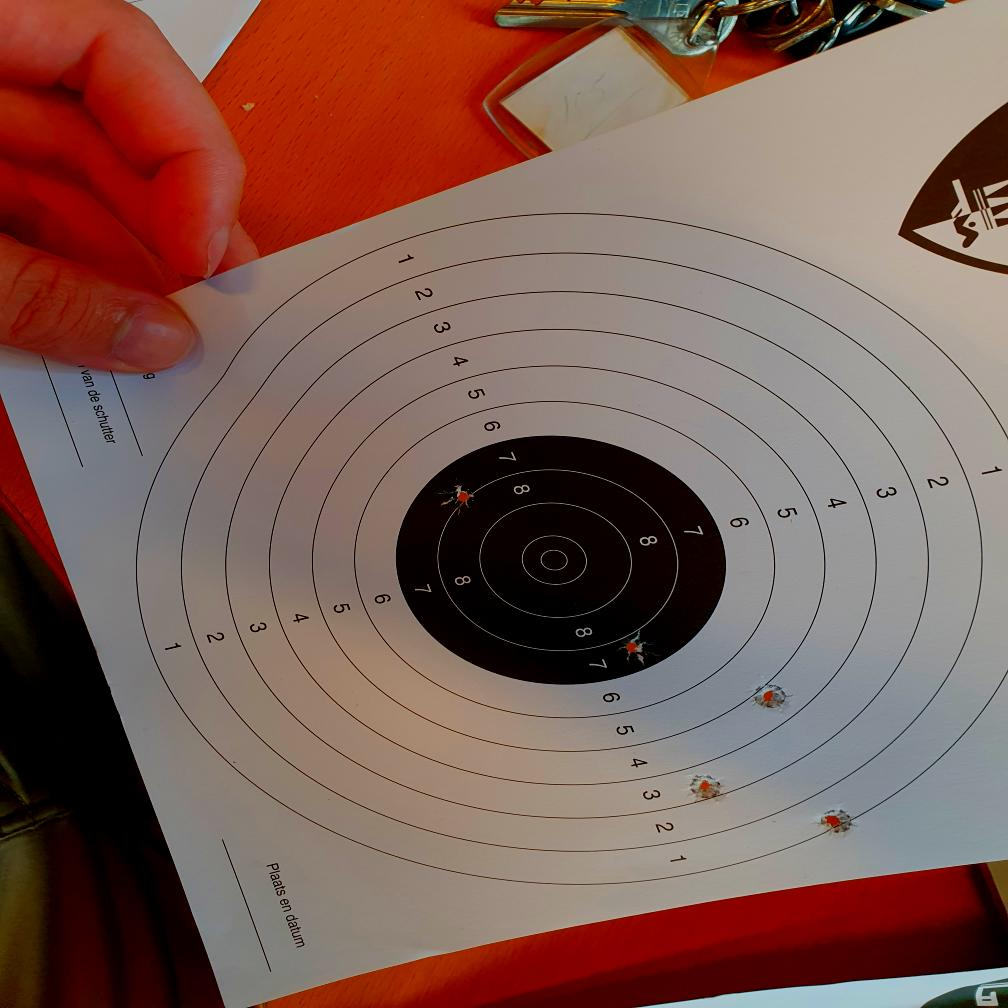1: (811, 804, 860, 836)
3: (688, 772, 724, 802)
5: (752, 683, 794, 711)
8: (612, 632, 661, 668), (434, 480, 478, 515)
Target: (140, 211, 1008, 888)
black_contour: (396, 434, 728, 684)
